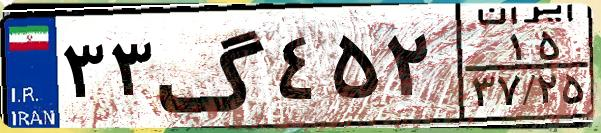1: (508, 27, 537, 80)
2: (385, 28, 445, 110), (535, 70, 560, 125)
3: (57, 26, 110, 100), (110, 28, 156, 98), (470, 70, 495, 125)
4: (270, 28, 330, 110)
5: (330, 28, 385, 110), (560, 70, 590, 125), (537, 27, 568, 80)
7: (495, 70, 520, 125)
گ: (156, 12, 270, 120)
